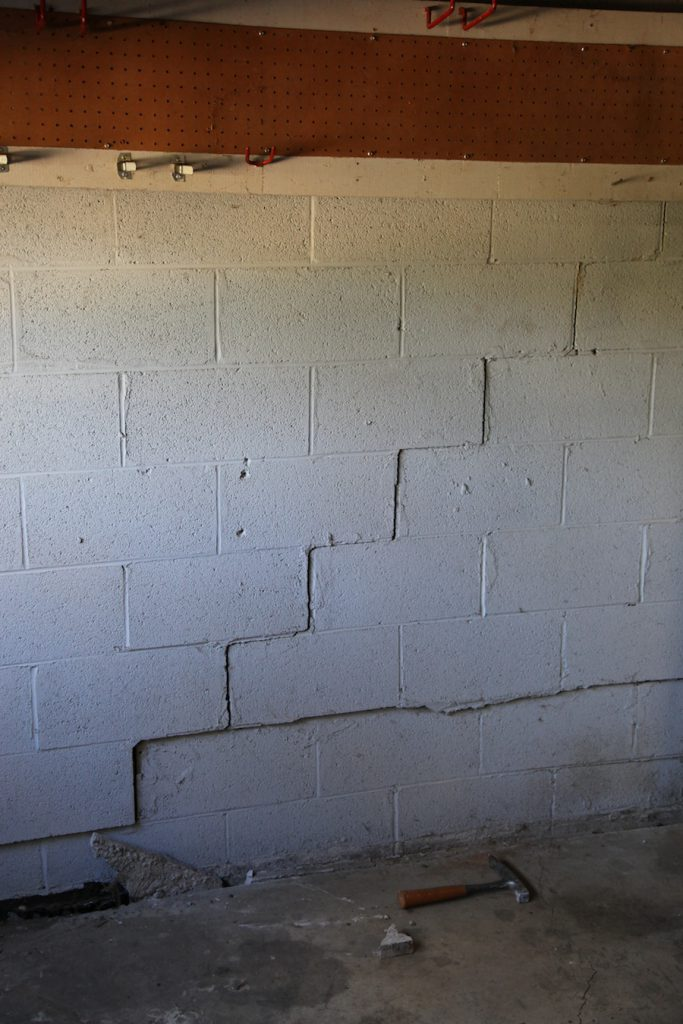stairstep_crack: (0, 201, 671, 849)
